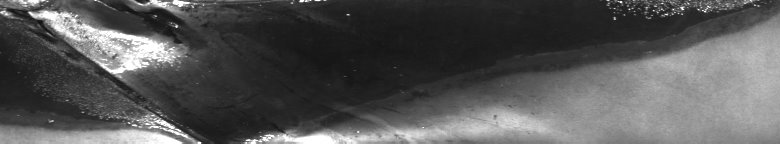ke: (36, 4, 376, 136)
